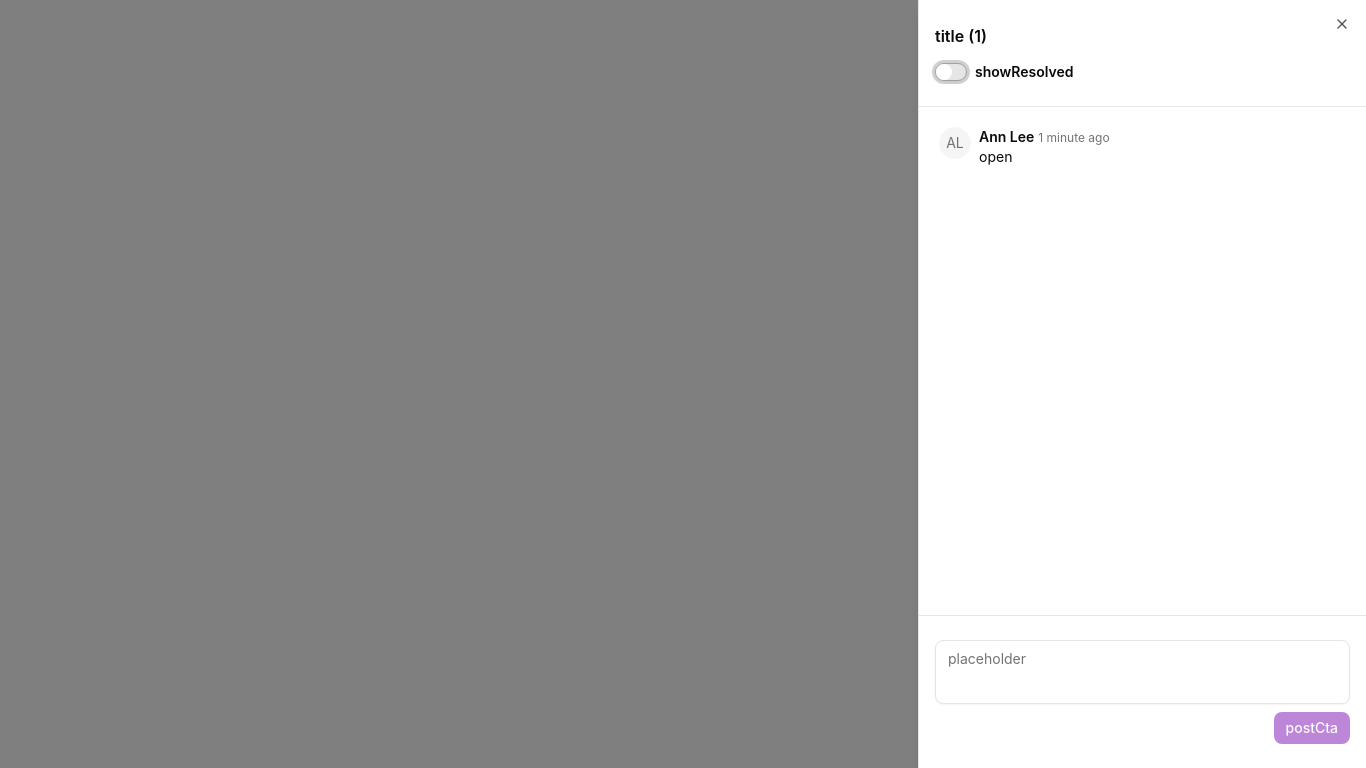
Test: CommentsPanel › hides resolved threads until Show resolved is on
The width and height of the screenshot is (1366, 768).
Expected: the text "done" is not shown
Click the switch at {"x": 951, "y": 72}, box [935,63,967,81]
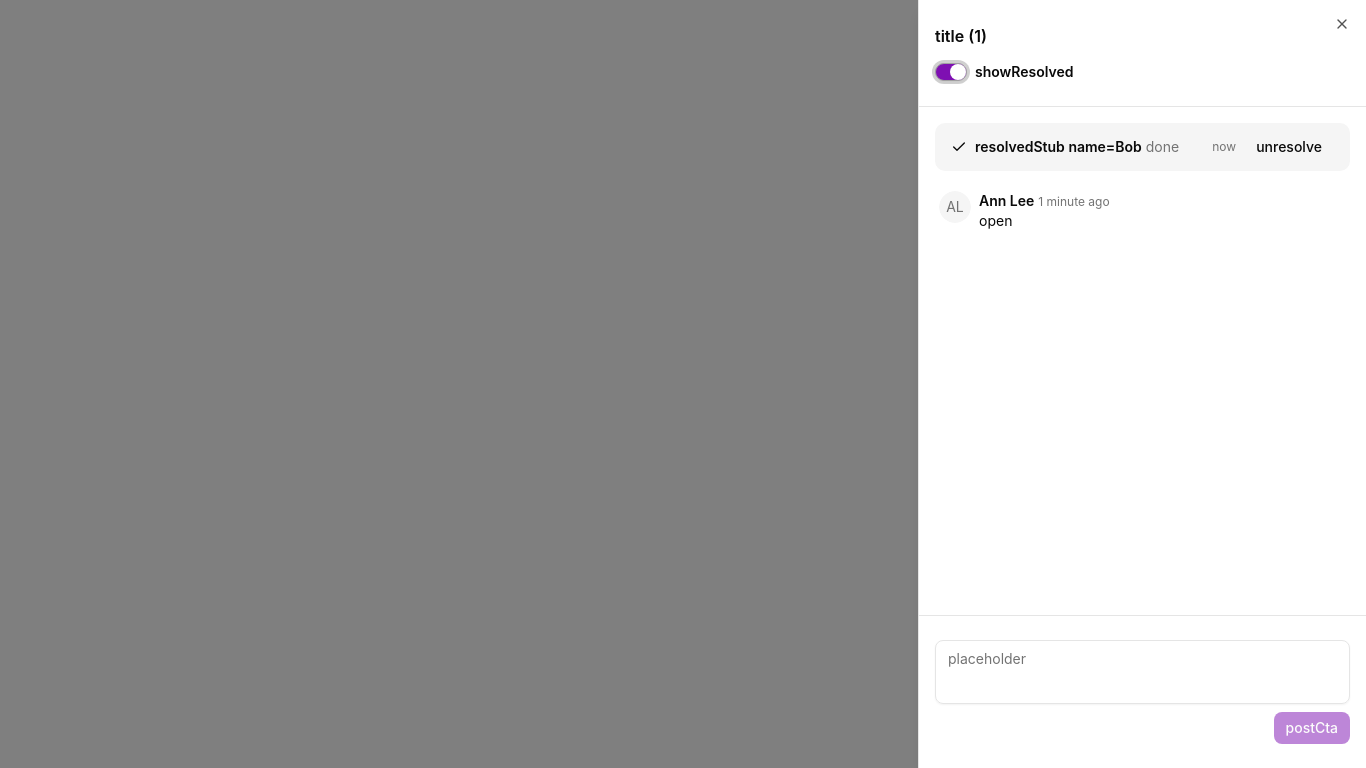
Now the text "resolvedStub name=Bob" is shown, box [975,138,1142,155]
Now the button "unresolve" is shown, box [1244,131,1334,163]
